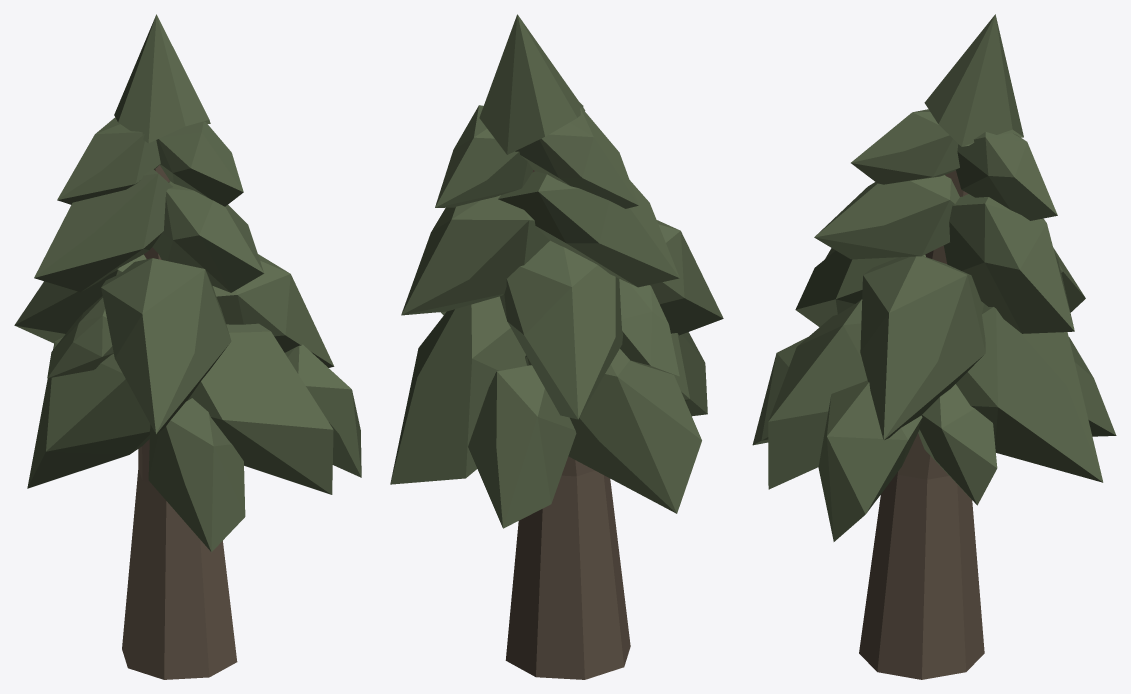
File: ConiferTree2.fbx
3 views of the same model, side by side, from view 1: azimuth 30°, elevation 25°; view 2: azimuth 150°, elevation 25°; view 3: azimuth 270°, elevation 25° (orthographic). The views are drawn at different scales.
Visible parts, largest first — view 1: tree; view 2: tree; view 3: tree.
Boxes of the visible parts, x1,y1,x2,y2 form: tree: [14, 14, 361, 679]; tree: [390, 14, 723, 679]; tree: [752, 14, 1116, 679].
Size of the model in its own units: 307 by 636 by 325.
